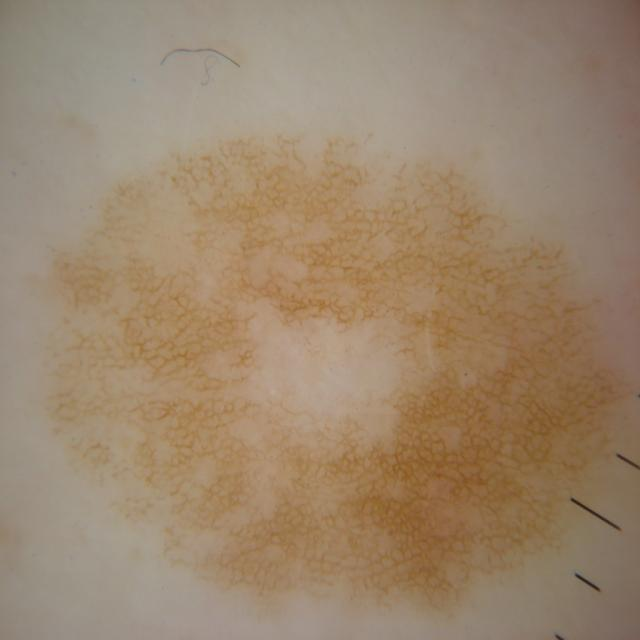Skin-Cancer Nevus: (53, 42, 617, 622)
